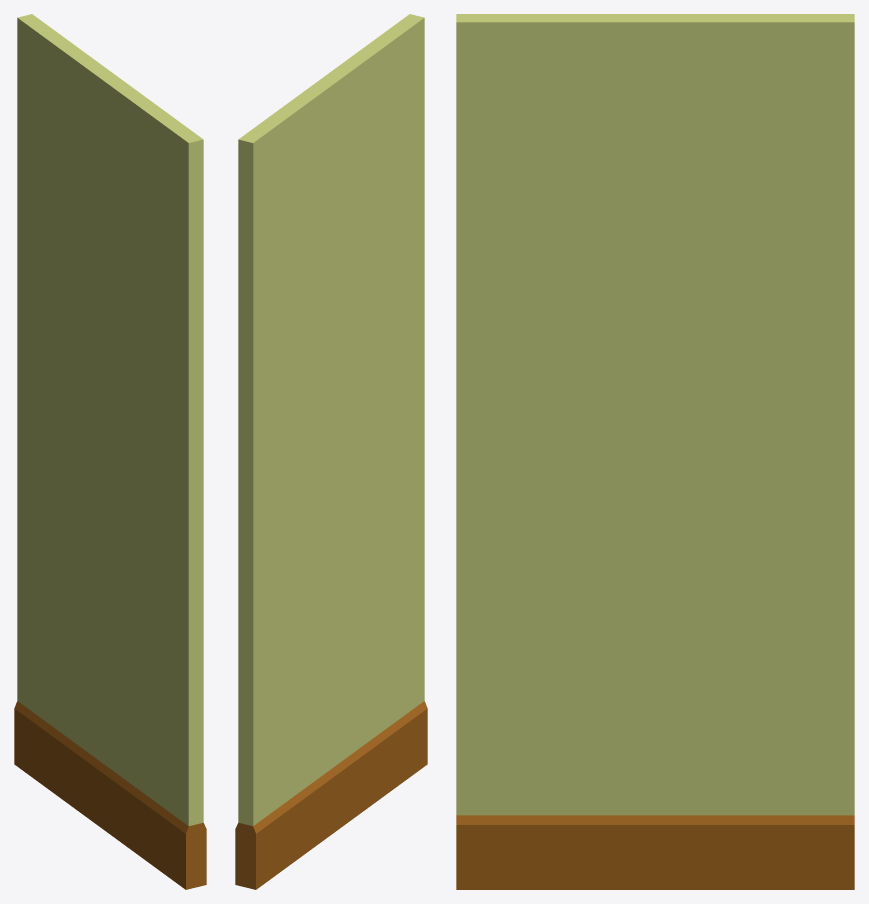
The model's file is wall.fbx.
The picture shows the model from 3 angles, left to right: view 1: azimuth 30°, elevation 25°; view 2: azimuth 150°, elevation 25°; view 3: azimuth 270°, elevation 25°; orthographic projection. The views are drawn at different scales.
Parts seen in each view (by area): view 1: Wall; view 2: Wall; view 3: Wall.
Boxes of the visible parts, x1,y1,x2,y2 form: Wall: (14,14,206,889); Wall: (235,14,427,889); Wall: (456,14,854,889).
Size of the model in its own units: 13.96 by 200 by 480.
